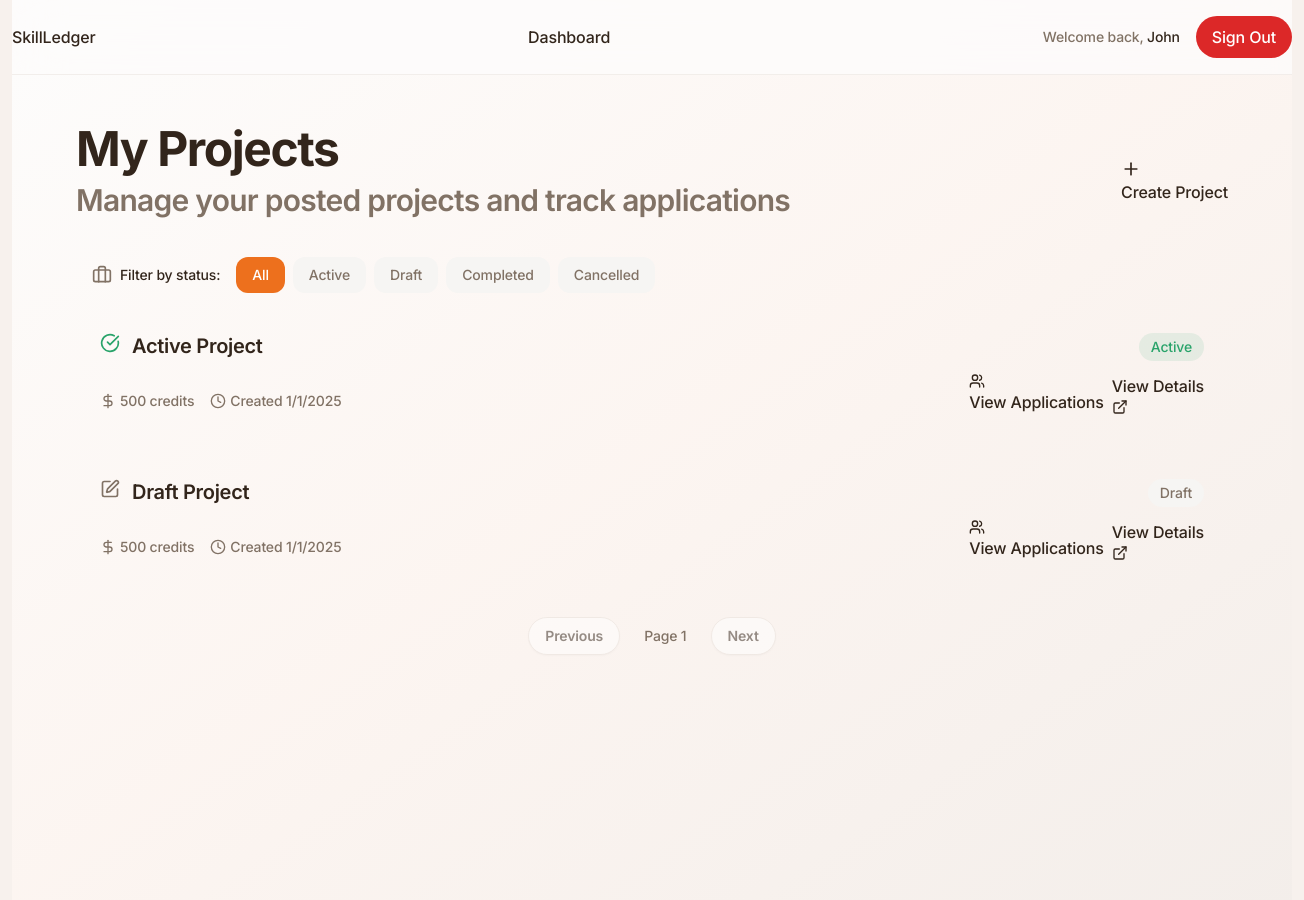
Test: MyProjectsPage - Status Filtering › should filter projects by Draft status
Expected: the heading "Draft Project" is shown, x1=132 y1=478 x2=249 y2=504
Click the button "Draft": (406, 274) x1=374 y1=256 x2=438 y2=292
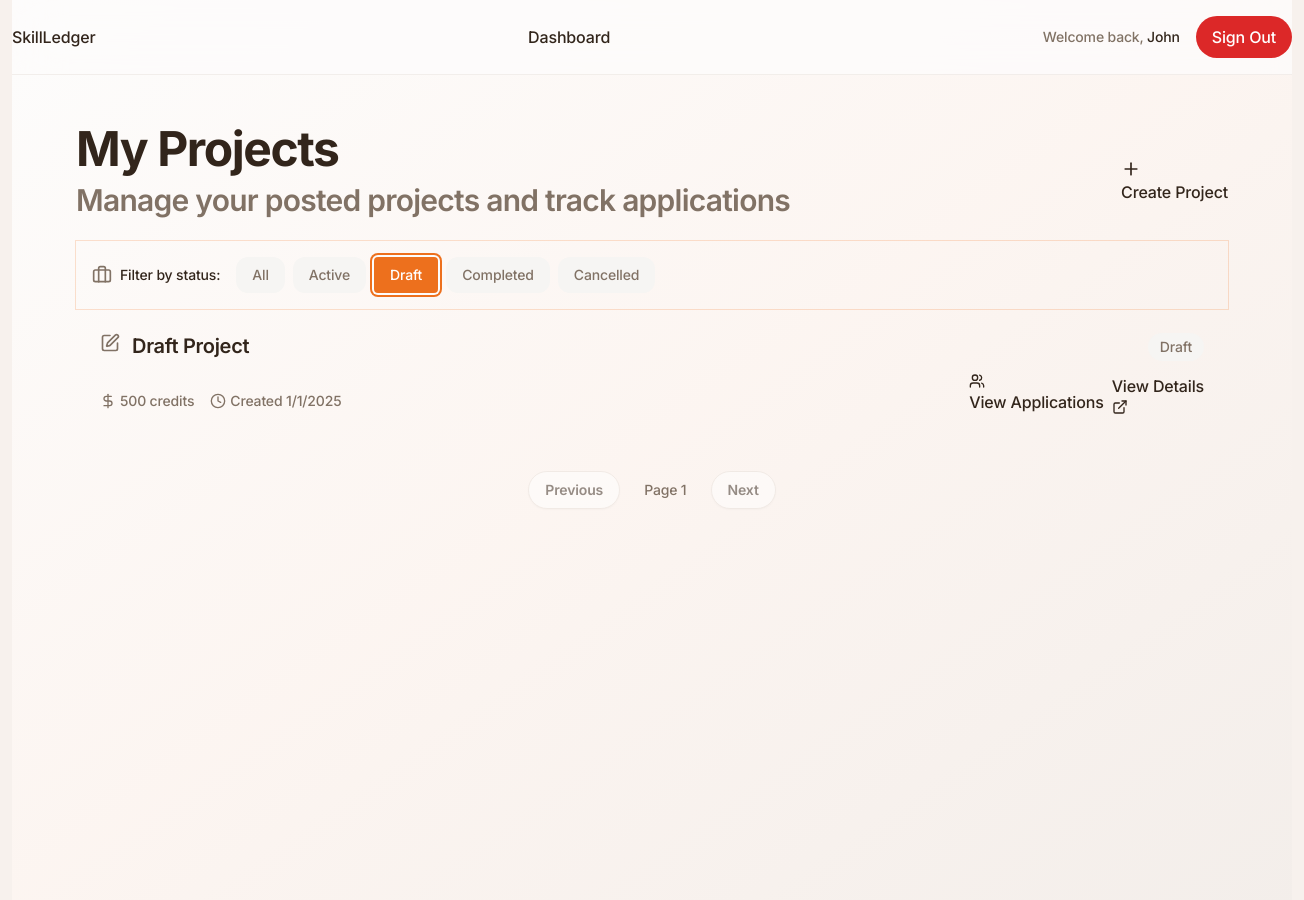
Expected: the heading "Draft Project" is shown, x1=132 y1=332 x2=249 y2=358
Result: the heading "Active Project" is gone
